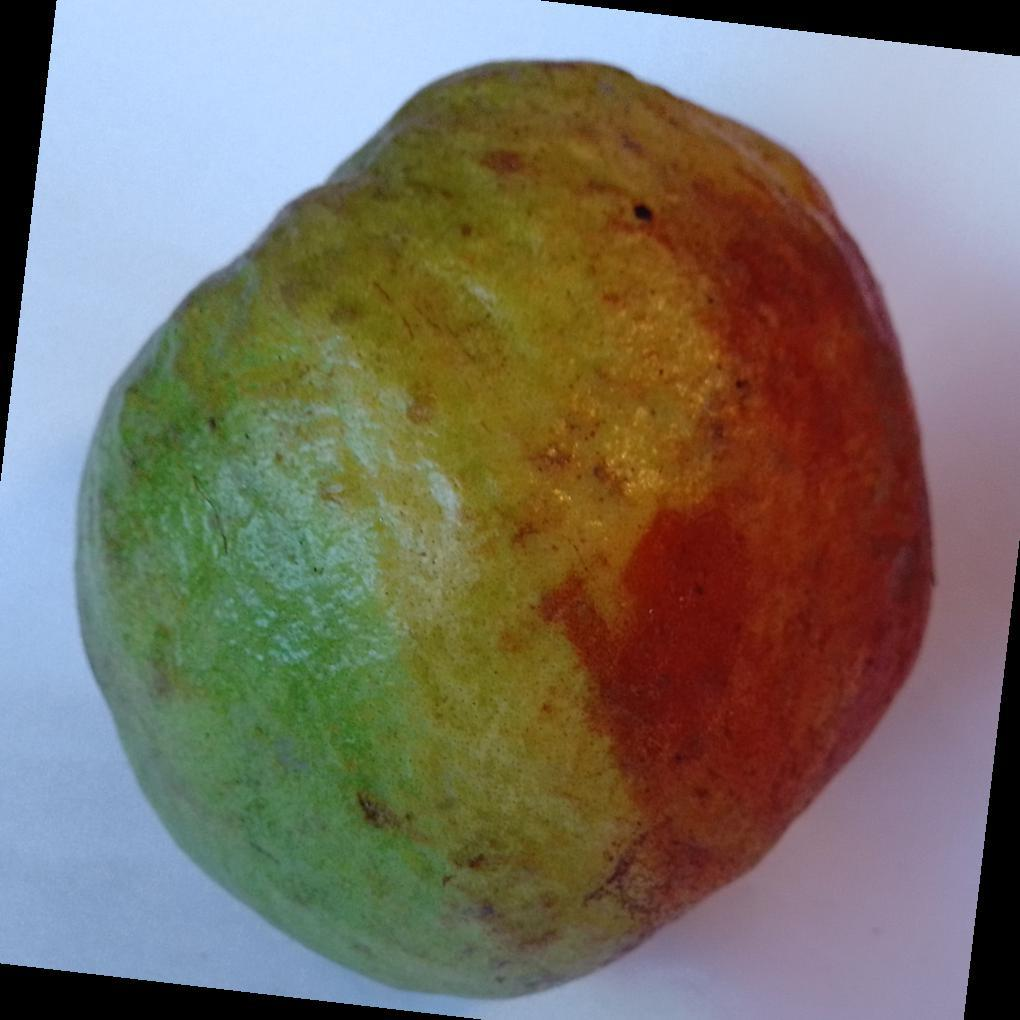FreshOrange: (71, 59, 938, 1004)
